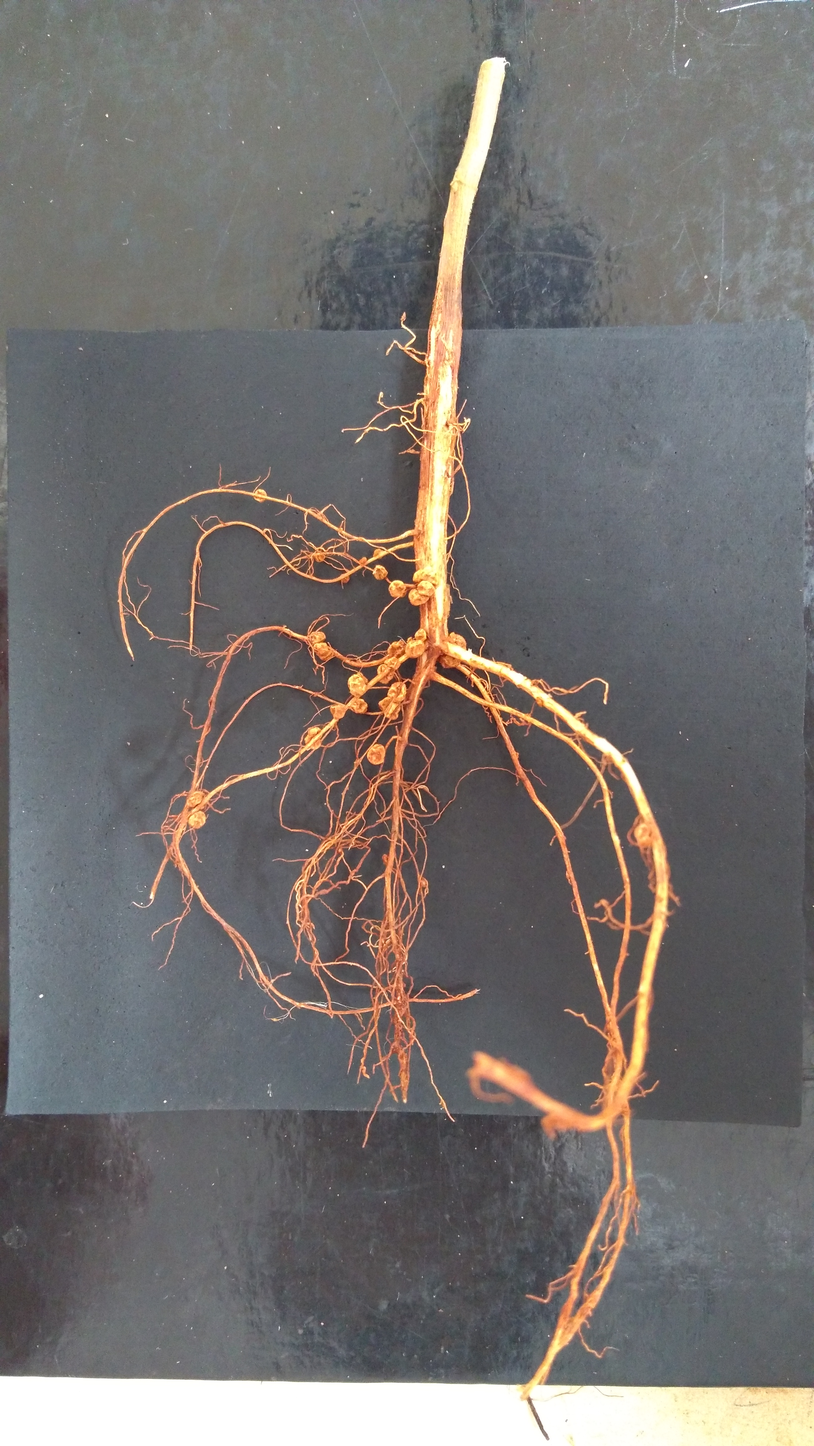nodule: (438, 632, 467, 669), (413, 565, 439, 588), (378, 696, 401, 720), (347, 671, 368, 696), (634, 823, 653, 848), (187, 790, 208, 811), (366, 743, 386, 765), (304, 727, 322, 750), (387, 682, 407, 702), (313, 642, 334, 661), (376, 663, 395, 684), (409, 588, 431, 606), (388, 580, 408, 598), (405, 640, 425, 658), (387, 641, 406, 659), (188, 811, 206, 829), (349, 698, 368, 714), (417, 581, 435, 596), (372, 565, 388, 581), (309, 631, 326, 645), (384, 656, 401, 669), (414, 628, 427, 642), (254, 489, 267, 502), (313, 551, 326, 563), (373, 548, 384, 559), (340, 573, 350, 583), (419, 877, 428, 888), (535, 697, 543, 708), (382, 853, 389, 864), (358, 557, 367, 565), (406, 637, 413, 643), (337, 847, 342, 853), (339, 527, 343, 532)
